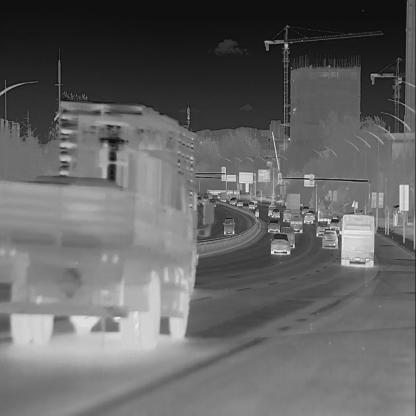bus: (340, 210, 376, 269)
car: (270, 233, 290, 254), (280, 226, 296, 249), (322, 228, 339, 248), (289, 210, 303, 233), (222, 216, 236, 236), (315, 219, 328, 237), (328, 216, 340, 232), (267, 218, 280, 232), (282, 208, 292, 223), (303, 211, 313, 225), (271, 208, 280, 219), (267, 205, 275, 216), (307, 210, 315, 221), (207, 197, 216, 205), (301, 205, 309, 214), (248, 202, 255, 210), (236, 199, 243, 207), (268, 202, 275, 210), (228, 198, 235, 205), (231, 197, 237, 203), (216, 192, 221, 199)
truck: (0, 94, 202, 366), (284, 192, 302, 219), (219, 191, 226, 203)
